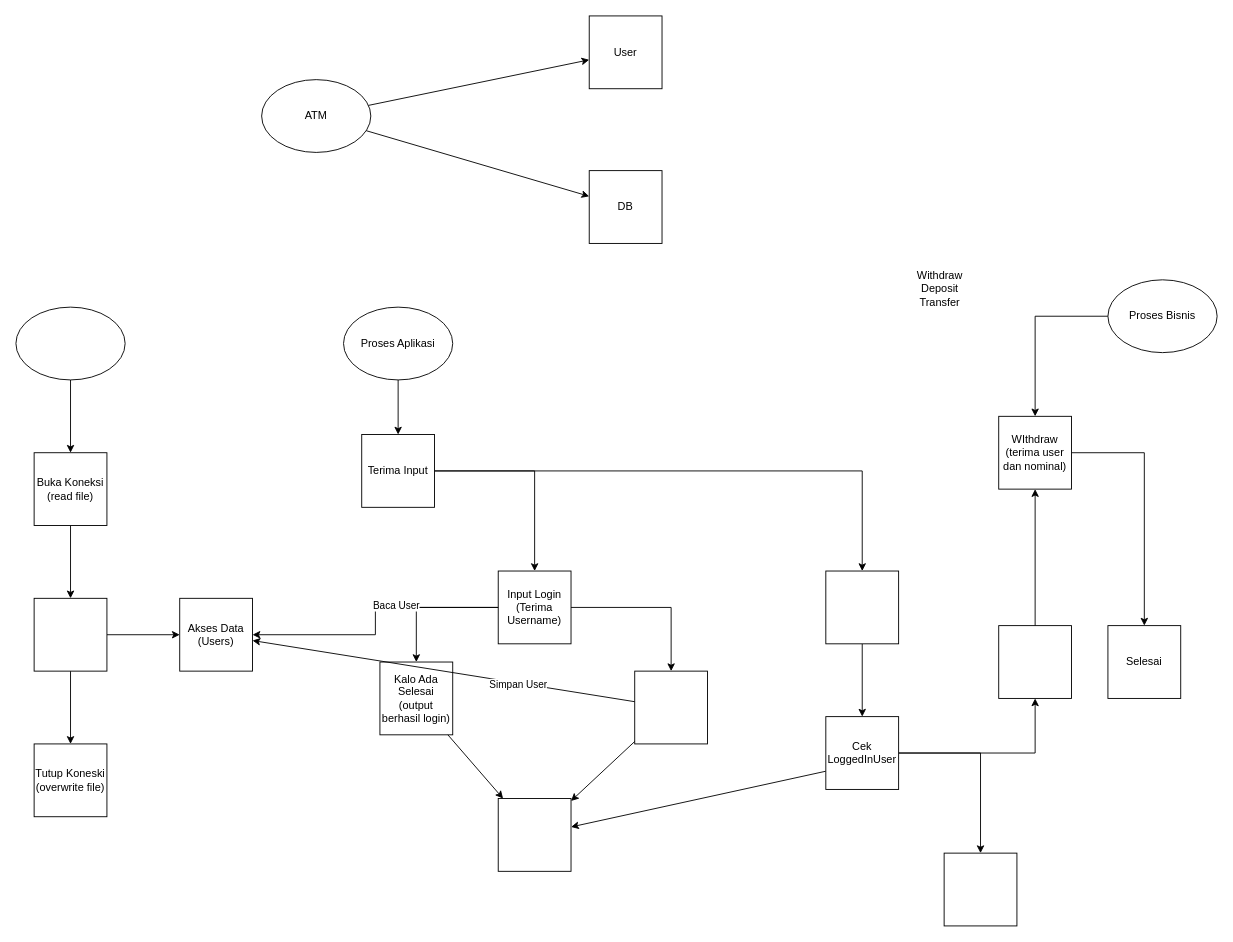
Some shapes in this 1233 by 942 pixel diagram are drawn without their labels. The shapes that lost their labels are listed below. From the top down, each one's centre as x and y in pixels, then its label:
At point (70, 343): "PROSES DB".
At point (862, 607): "Input Deposit (Terima Nominal)".
At point (70, 634): "Store Ke variable".
At point (1035, 661): "Kalo Ada panggil withdraw".
At point (671, 707): "Kalo ga ada selesai (buat baru output berhasil login)".
At point (534, 834): "LoggedIn User".
At point (980, 889): "Kalo ga ada (kasi pesan error) Done".
